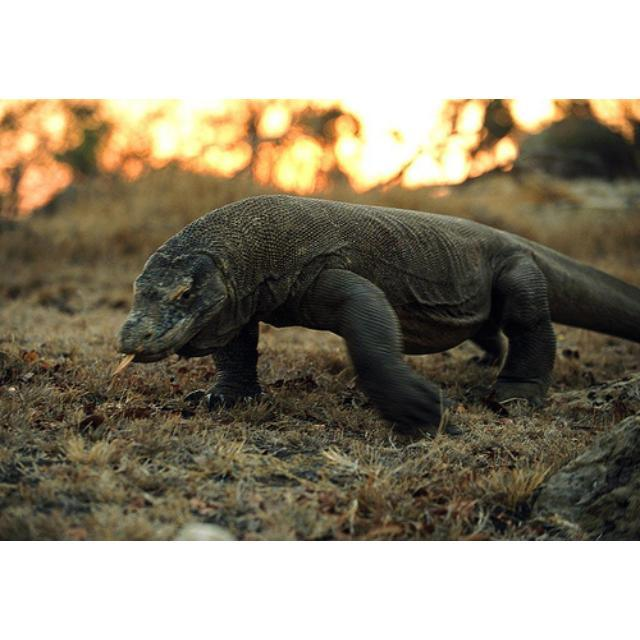KomodoDragon: (111, 190, 638, 440)
